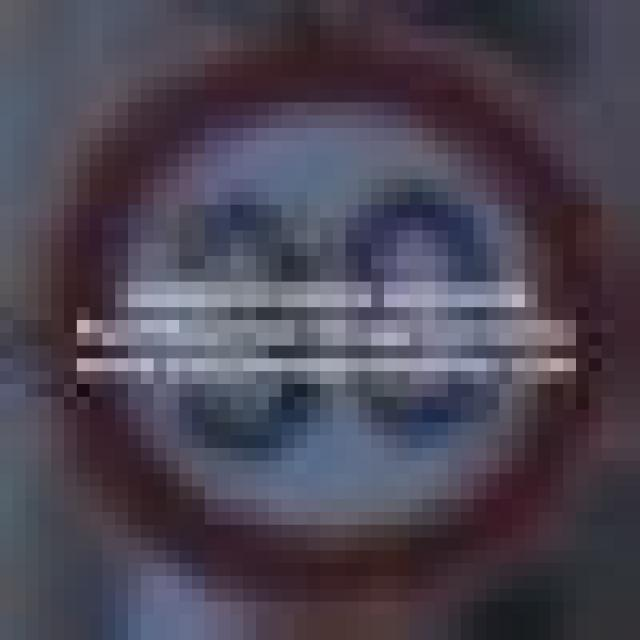SPEED_LIMIT_30: (39, 26, 602, 588)
